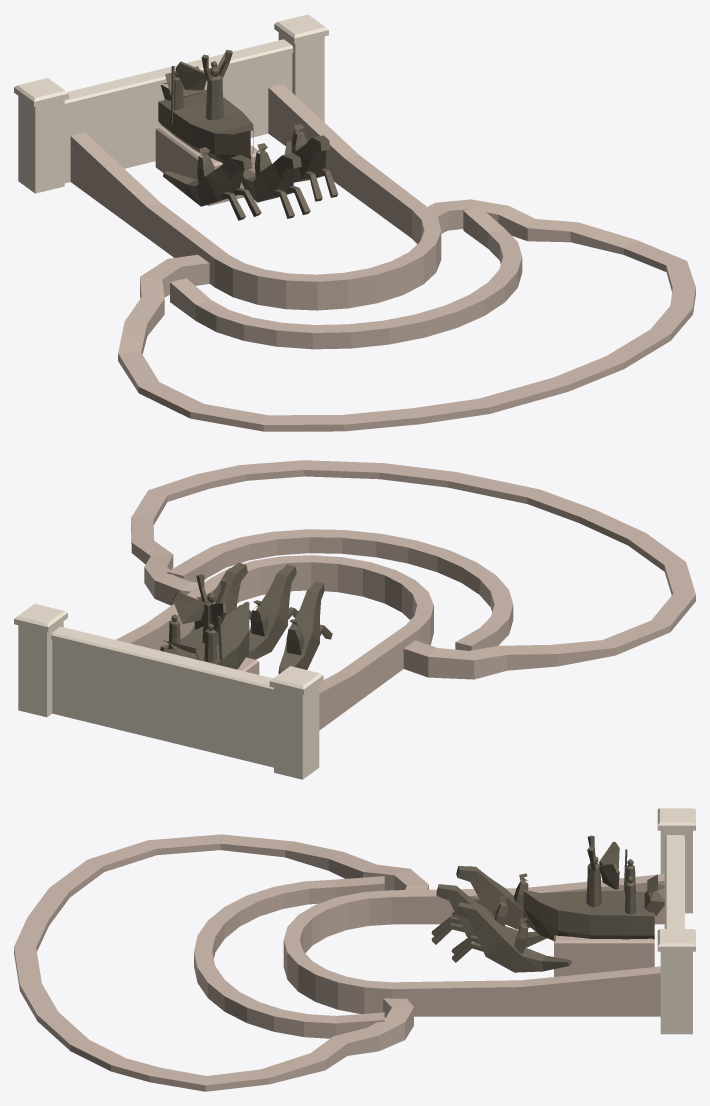
The model's file is atx-littlefield-fountain.glb.
3 renders of one model, top to bottom at view 1: azimuth 30°, elevation 25°; view 2: azimuth 150°, elevation 25°; view 3: azimuth 270°, elevation 25°, orthographic. The views are drawn at different scales.
Parts seen in each view (by area): view 1: Littlefield Fountain; view 2: Littlefield Fountain; view 3: Littlefield Fountain.
Part boxes in pixels (box(x1,y1,x2,y2)): Littlefield Fountain: box(14, 14, 695, 431); Littlefield Fountain: box(14, 460, 695, 779); Littlefield Fountain: box(14, 808, 695, 1091).
Size of the model in its own units: 29.47 by 6.87 by 33.83.
